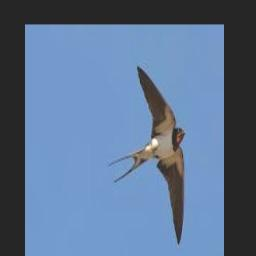Swallow: (109, 68, 186, 245)
